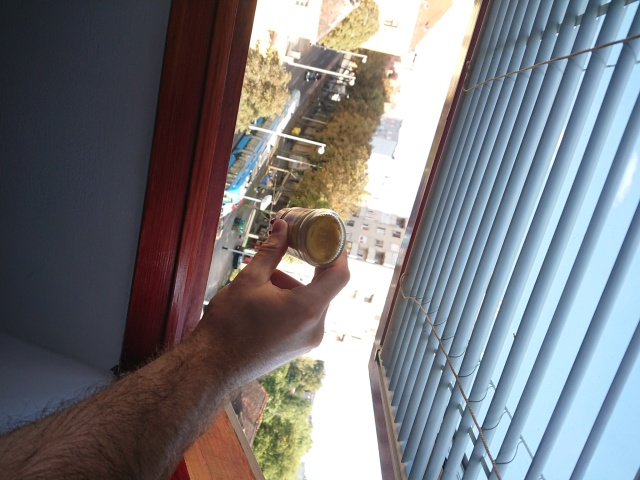Kotanyi Curry Spices Mix 70g: (267, 205, 348, 270)
